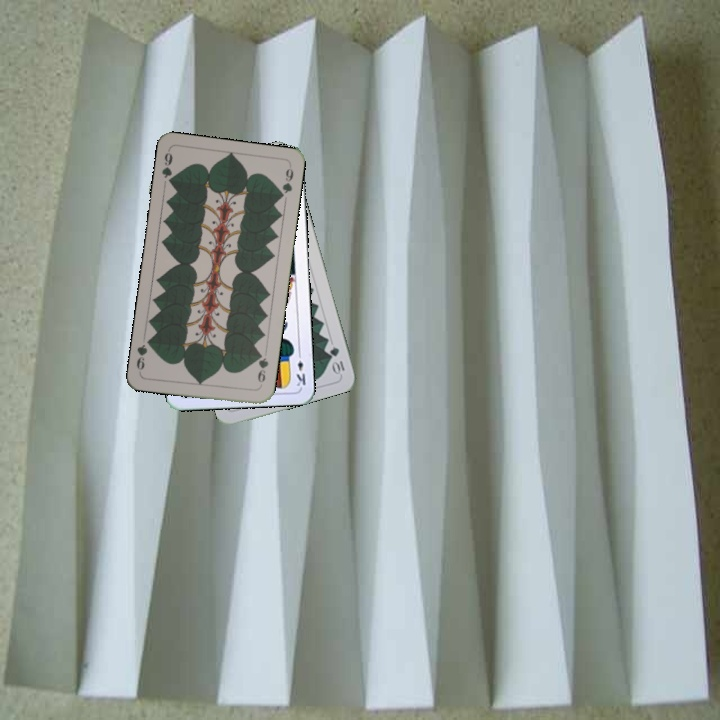EK: (292, 348, 308, 389)
G10: (326, 343, 347, 377)
G9: (158, 147, 176, 188), (254, 349, 271, 385)
